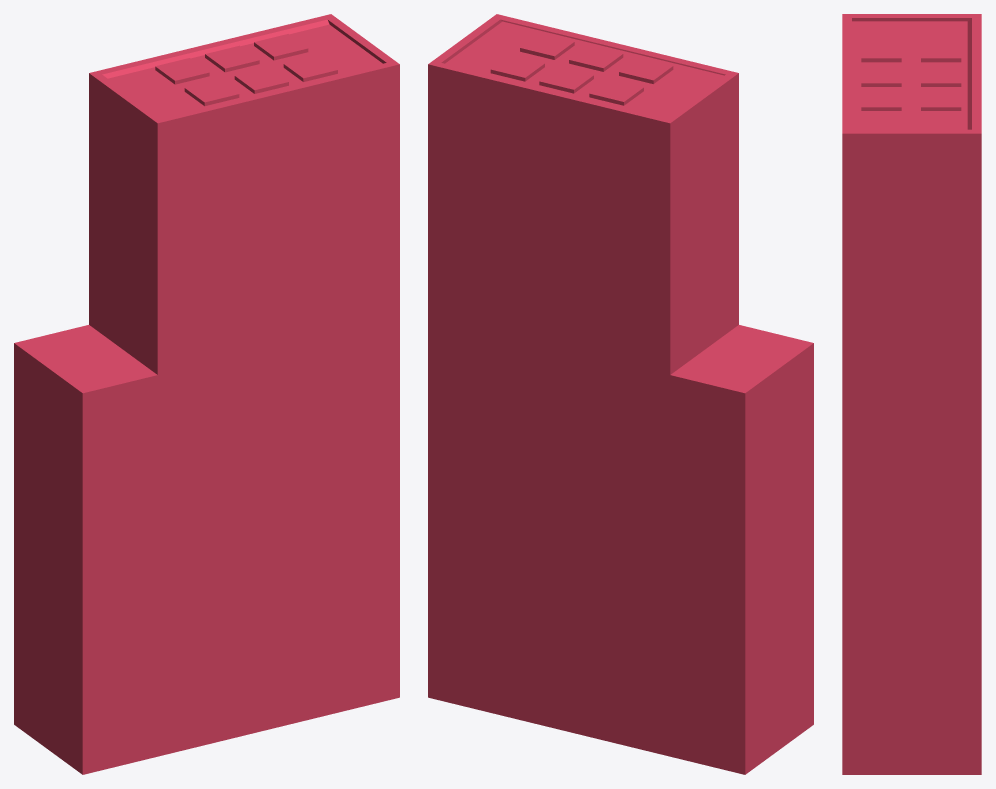
File: Building7_red.fbx
3 renders of one model, left to right at view 1: azimuth 30°, elevation 25°; view 2: azimuth 150°, elevation 25°; view 3: azimuth 270°, elevation 25°, orthographic.
Visible parts, largest first — view 1: Building 7; view 2: Building 7; view 3: Building 7.
Part boxes in pixels (x1,y1,x2,y2): Building 7: (14, 14, 399, 774); Building 7: (428, 14, 813, 774); Building 7: (842, 14, 981, 774).
Bounding box in the file's own units: 2204 × 4209 × 828.
Materials: 1 (1 with a texture image).
